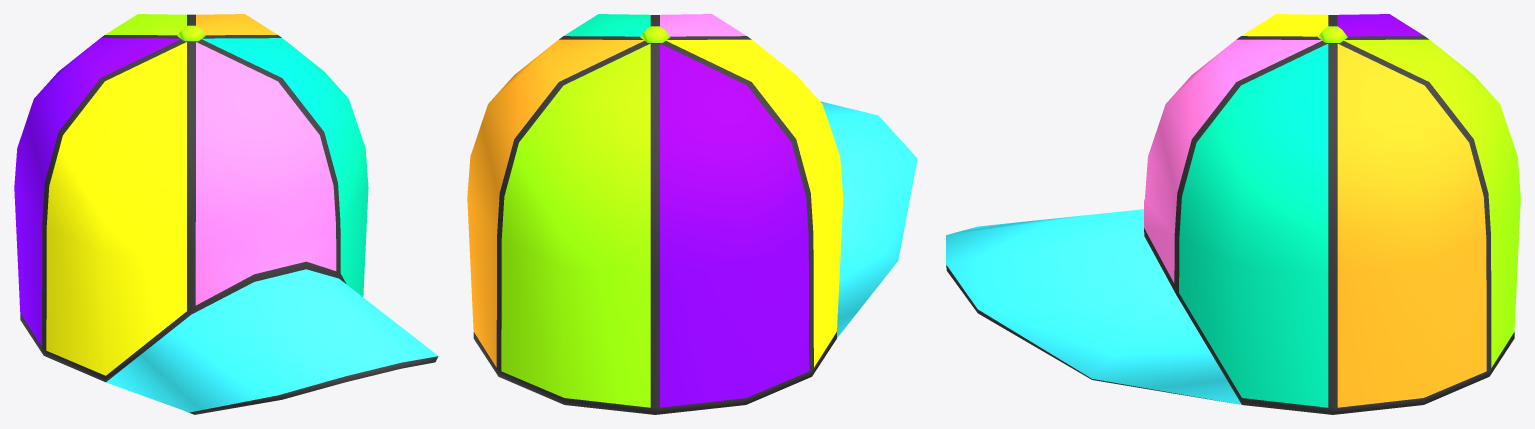
The model's file is cocobay_env_cap_01.gltf.
3 renders of one model, left to right at view 1: azimuth 30°, elevation 25°; view 2: azimuth 150°, elevation 25°; view 3: azimuth 270°, elevation 25°, orthographic. The views are drawn at different scales.
Visible parts, largest first — view 1: cocobay_env_cap_01_glb; view 2: cocobay_env_cap_01_glb; view 3: cocobay_env_cap_01_glb.
Boxes of the visible parts, x1,y1,x2,y2 form: cocobay_env_cap_01_glb: (14,14,438,414); cocobay_env_cap_01_glb: (467,14,917,414); cocobay_env_cap_01_glb: (946,14,1520,414).
Size of what is drawn, in the model's own units: 1.61 by 1.52 by 2.56.
Materials: 1 (1 with a texture image).
